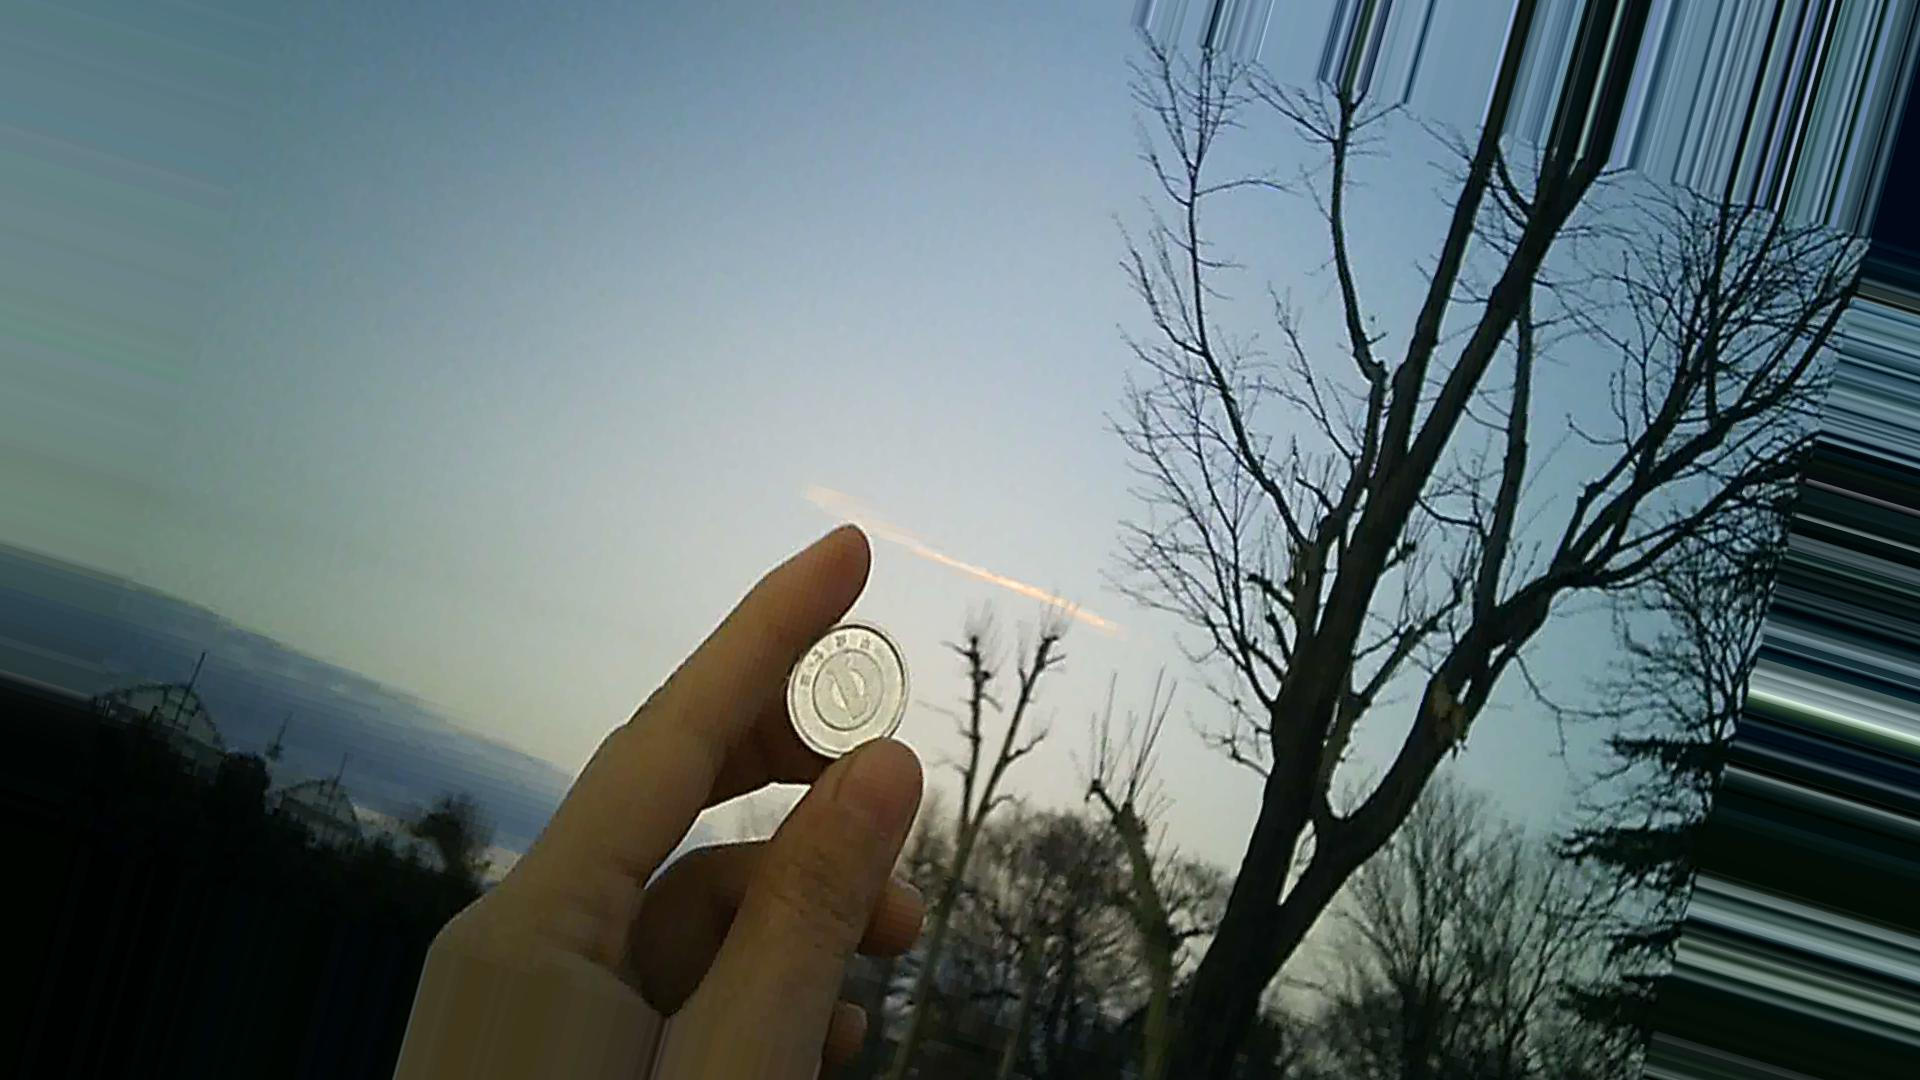1 Yen: (789, 622, 915, 766)
